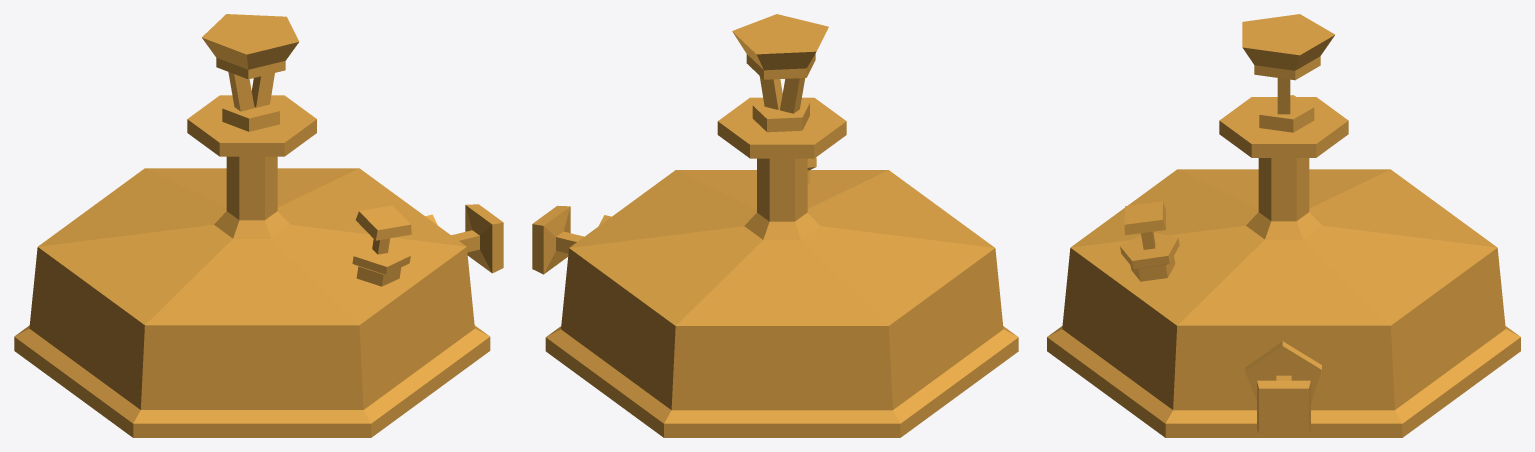
File: SM_Burner_Oil.fbx
The picture shows the model from 3 angles, left to right: view 1: azimuth 30°, elevation 25°; view 2: azimuth 150°, elevation 25°; view 3: azimuth 270°, elevation 25°; orthographic projection.
Parts seen in each view (by area): view 1: burner-oil; view 2: burner-oil; view 3: burner-oil.
Boxes of the visible parts, x1=… form: burner-oil: x1=14, y1=14, x2=503, y2=437; burner-oil: x1=532, y1=14, x2=1018, y2=437; burner-oil: x1=1047, y1=14, x2=1520, y2=437.
Size of the model in its own units: 0.1862 by 0.1355 by 0.1838.
